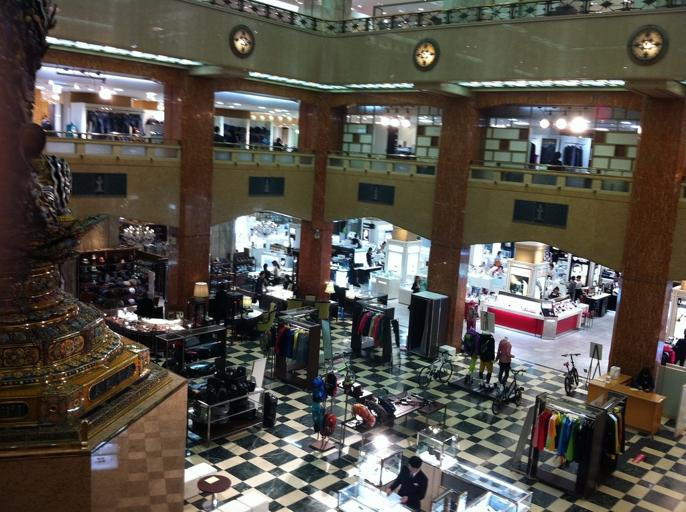non-vehicle: (491, 367, 526, 414), (417, 350, 453, 388), (561, 353, 581, 396)
